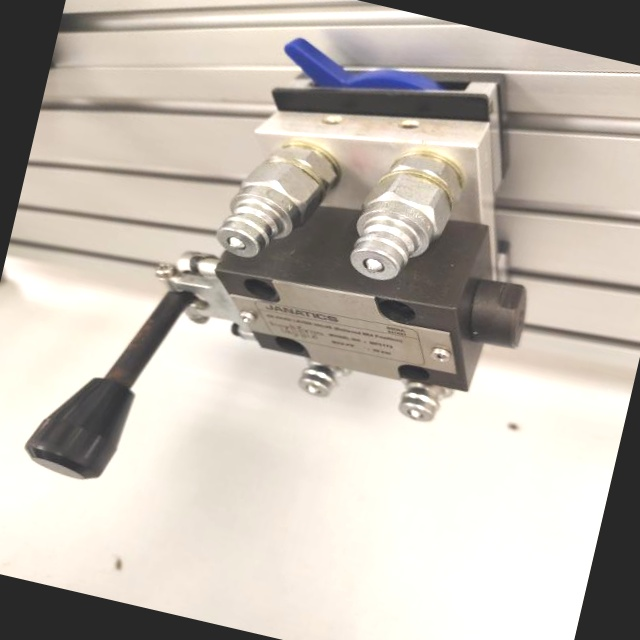4by3 hand lever valve: (0, 0, 593, 583)
